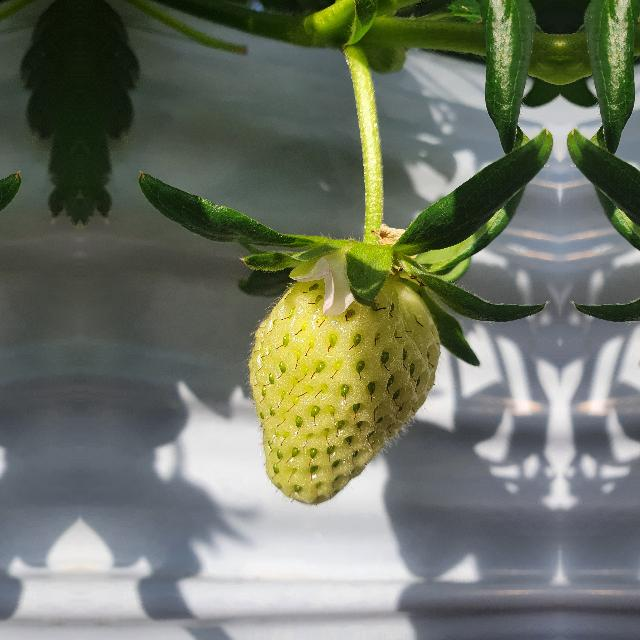Health_25: (250, 274, 440, 504)
